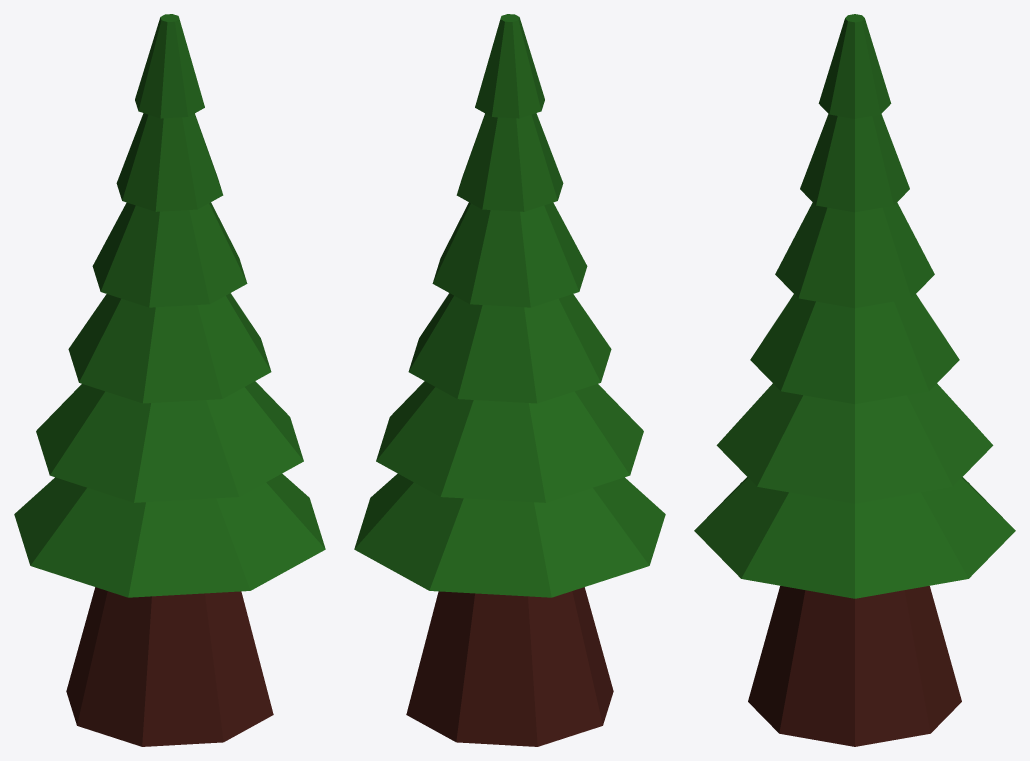
Rendered from Pine Tree.dae.
3 renders of one model, left to right at view 1: azimuth 30°, elevation 25°; view 2: azimuth 150°, elevation 25°; view 3: azimuth 270°, elevation 25°, orthographic.
Parts seen in each view (by area): view 1: Cylinder; view 2: Cylinder; view 3: Cylinder.
Boxes of the visible parts, <box> form: Cylinder: <box>14,14,325,746</box>; Cylinder: <box>354,14,665,746</box>; Cylinder: <box>694,14,1015,746</box>.
Size of the model in its own units: 2.88 by 2.88 by 6.74.
